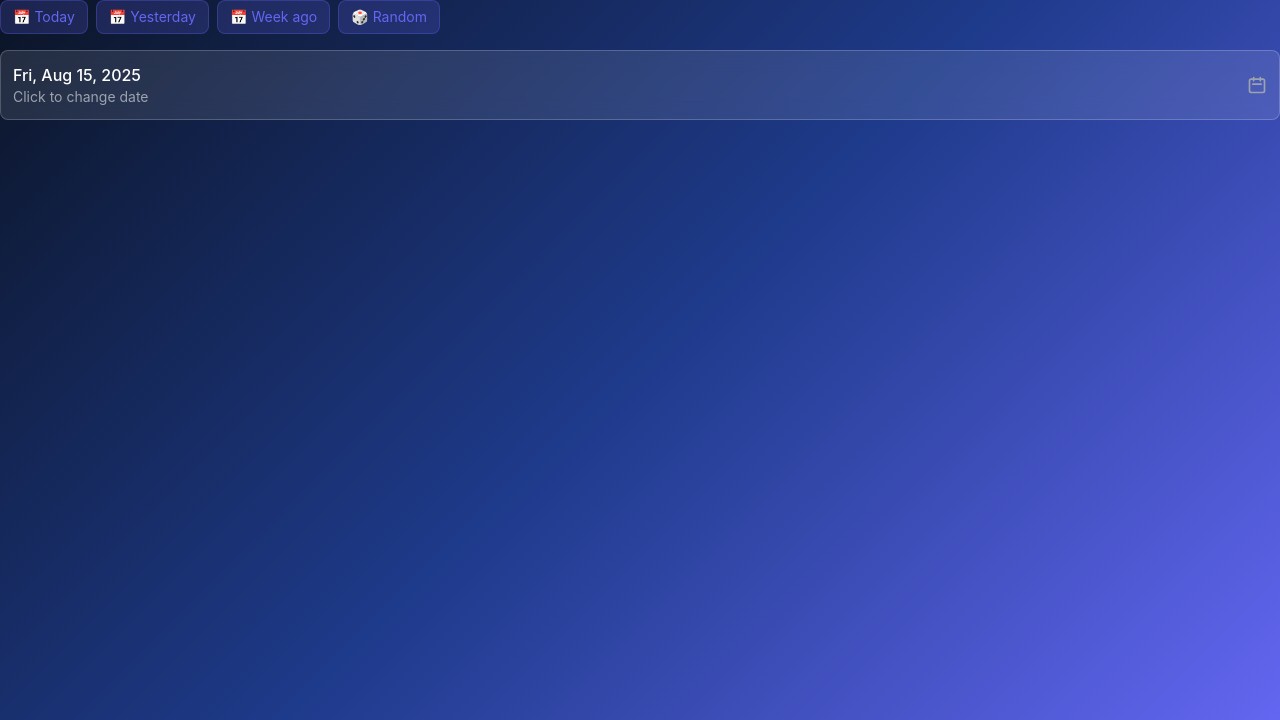
Test: DatePicker › opens calendar when button is clicked
This screenshot has width=1280, height=720.
Click the button "Fri, Aug 15, 2025 Click to change date" at (77, 75), box [0, 50, 1279, 120]
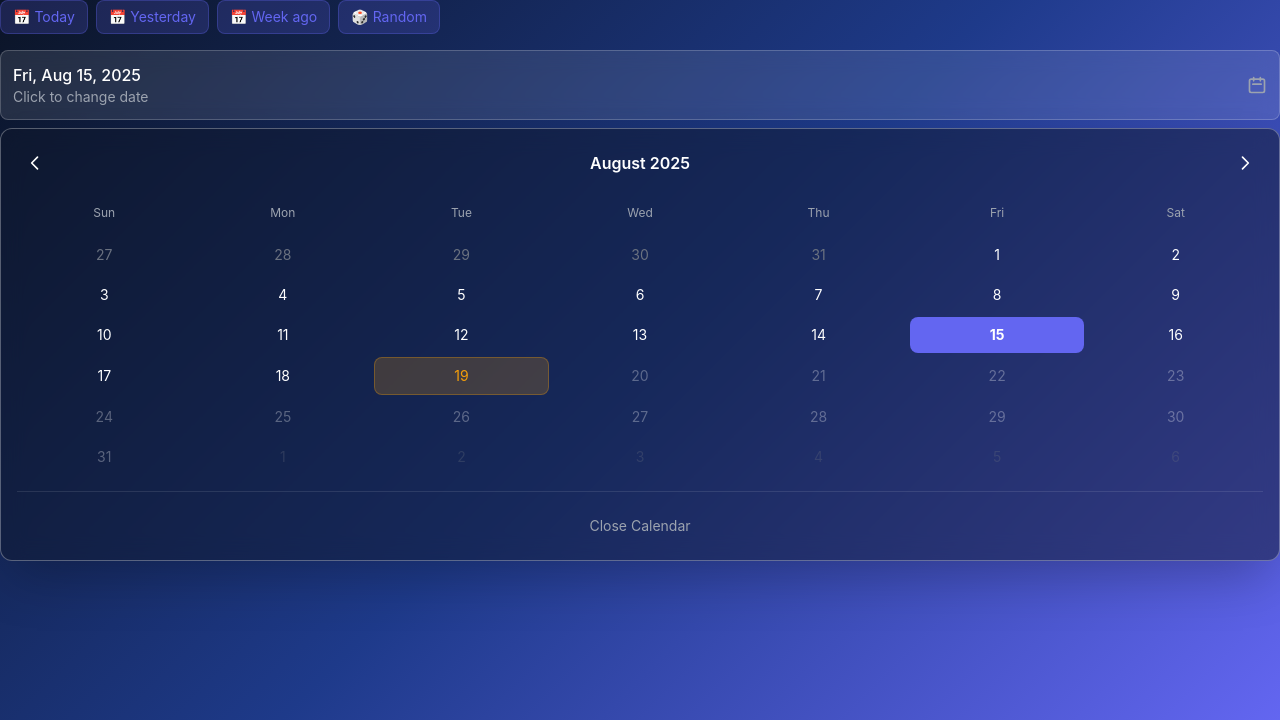
Expected: the heading "August 2025" is shown, [590, 151, 690, 175]
